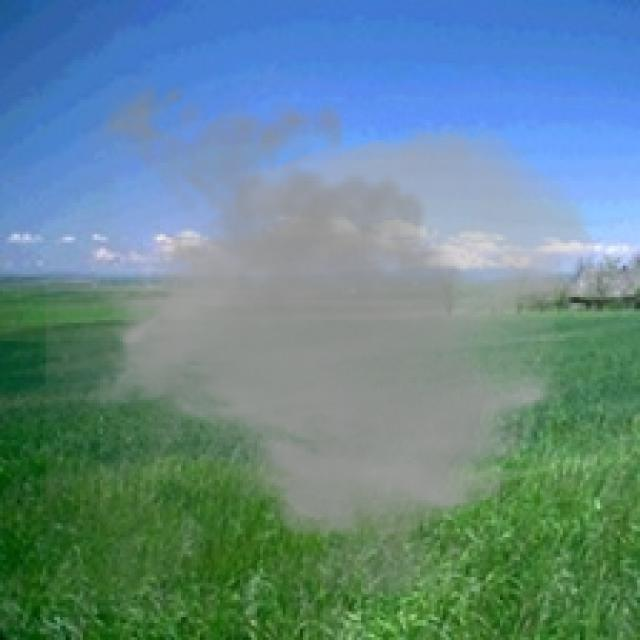Smoke: (45, 66, 600, 614)
